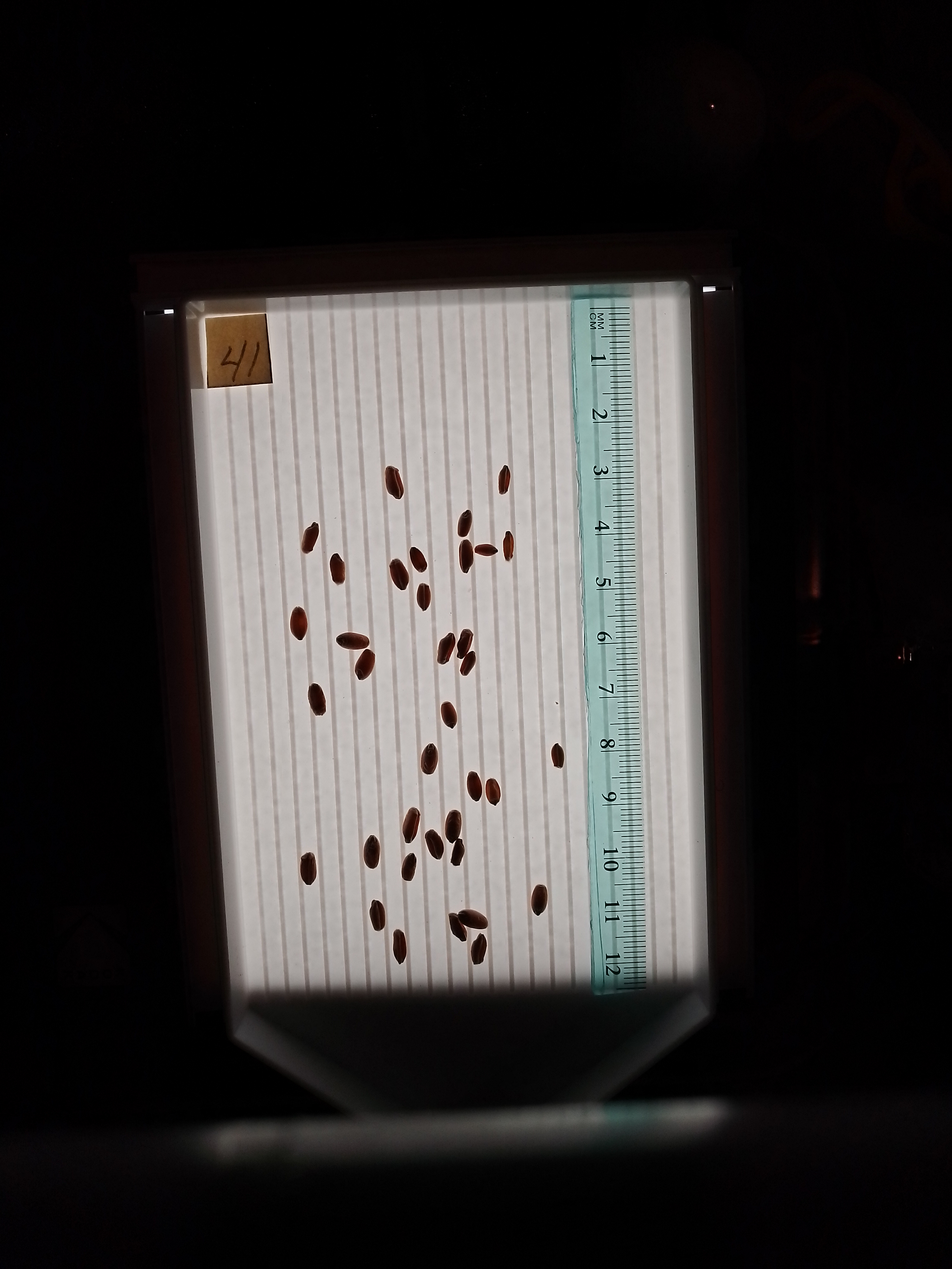seed mask: (355, 649, 375, 679), (402, 809, 420, 842), (390, 559, 409, 590), (385, 467, 403, 499), (337, 633, 369, 651), (363, 836, 380, 869), (308, 684, 326, 715), (301, 523, 319, 554), (290, 607, 307, 639), (420, 744, 438, 774), (459, 910, 487, 929), (445, 810, 461, 843), (531, 884, 548, 915), (426, 831, 444, 859), (370, 900, 386, 931), (300, 853, 316, 884), (449, 914, 467, 941), (471, 934, 487, 964), (329, 555, 345, 585), (438, 634, 454, 663), (460, 540, 474, 573), (393, 930, 407, 963), (457, 631, 473, 658), (441, 702, 457, 728), (467, 773, 482, 800), (410, 547, 426, 572), (402, 853, 416, 881), (451, 839, 465, 866), (486, 779, 501, 804), (460, 652, 476, 675), (417, 584, 431, 610), (458, 511, 472, 536), (502, 532, 514, 560), (499, 467, 511, 494), (552, 744, 565, 768), (476, 544, 496, 556)
